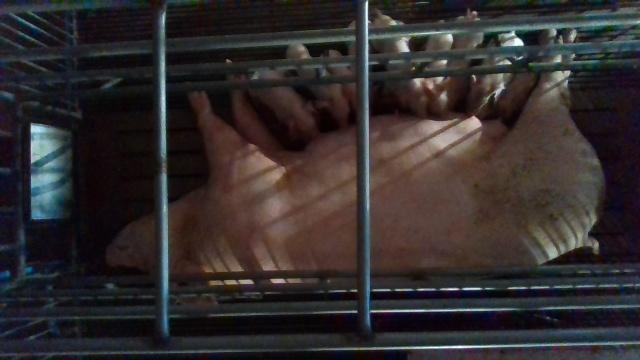piglet: (374, 9, 428, 118), (430, 9, 484, 117), (246, 67, 321, 144), (463, 31, 525, 118), (288, 44, 351, 128), (494, 58, 541, 122), (426, 19, 452, 82)
sow-sleep-lactate: (103, 28, 605, 305)
